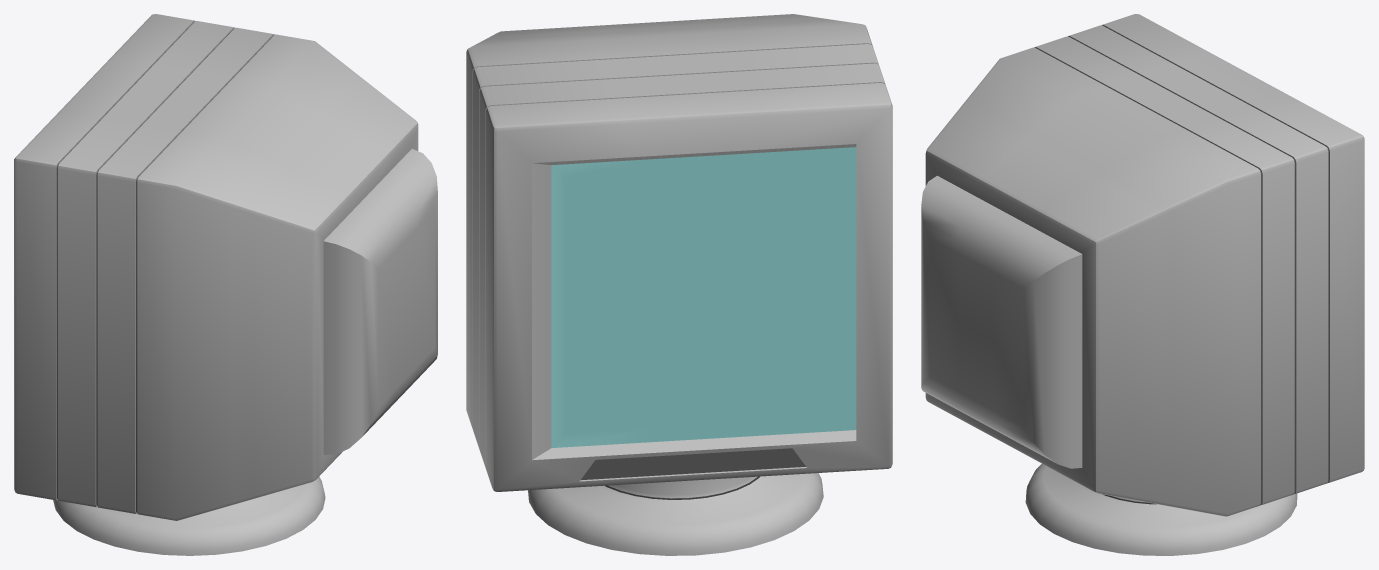
3 renders of one model, left to right at view 1: azimuth 30°, elevation 25°; view 2: azimuth 150°, elevation 25°; view 3: azimuth 270°, elevation 25°, orthographic. The views are drawn at different scales.
Parts seen in each view (by area): view 1: TV; view 2: TV; view 3: TV.
Part boxes in pixels (bbox=[...]): TV: bbox=[14, 14, 437, 555]; TV: bbox=[466, 14, 892, 555]; TV: bbox=[921, 14, 1364, 555].
Bounding box in the file's own units: 295 × 291 × 296.
